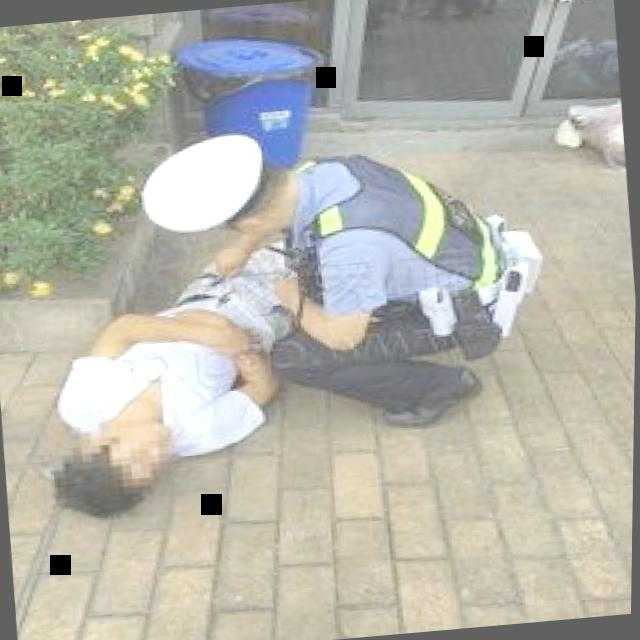Fall-Detected: (31, 225, 339, 519)
